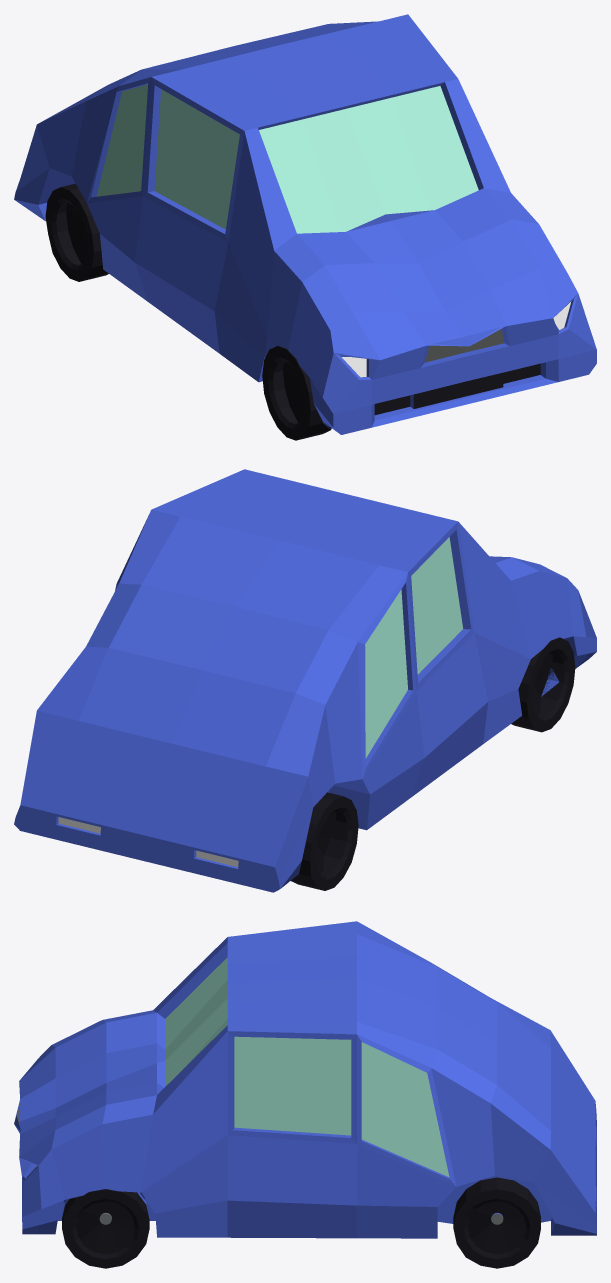
Rendered from car.fbx.
The picture shows the model from 3 angles, top to bottom: view 1: azimuth 30°, elevation 25°; view 2: azimuth 150°, elevation 25°; view 3: azimuth 270°, elevation 25°; orthographic projection. The views are drawn at different scales.
Visible parts, largest first — view 1: Cube; view 2: Cube; view 3: Cube.
Boxes of the visible parts, <box> form: Cube: <box>14,14,596,440</box>; Cube: <box>14,469,596,892</box>; Cube: <box>14,921,596,1268</box>.
Size of the model in its own units: 1204 by 1024 by 2321.
